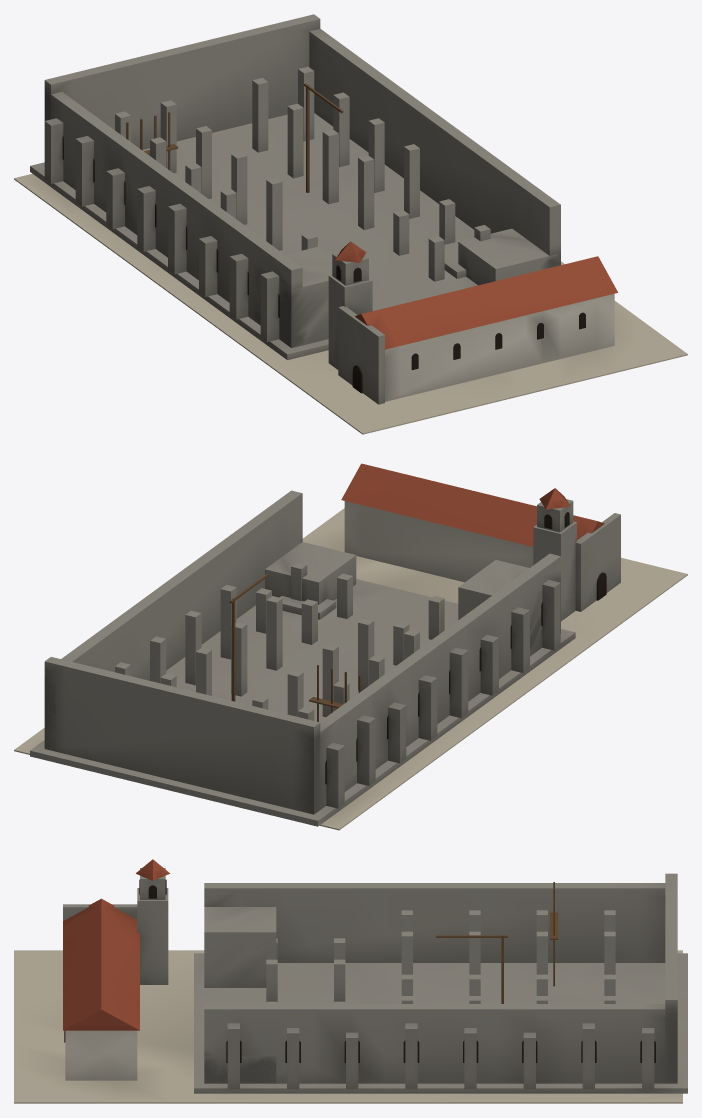
Rendered from cathedral-1620.glb.
3 views of the same model, one above another, from view 1: azimuth 30°, elevation 25°; view 2: azimuth 150°, elevation 25°; view 3: azimuth 270°, elevation 25° (orthographic). The views are drawn at different scales.
Visible parts, largest first — view 1: p2_new cathedral, p0_foundations, p1_old church; view 2: p2_new cathedral, p0_foundations, p1_old church; view 3: p2_new cathedral, p0_foundations, p1_old church.
Part boxes in pixels (<box>): p2_new cathedral: <box>44,14,560,347</box>; p0_foundations: <box>14,113,687,434</box>; p1_old church: <box>328,241,617,404</box>; p2_new cathedral: <box>44,490,560,814</box>; p0_foundations: <box>14,508,687,830</box>; p1_old church: <box>341,463,620,621</box>; p2_new cathedral: <box>204,873,677,1089</box>; p0_foundations: <box>14,950,687,1103</box>; p1_old church: <box>63,859,169,1080</box>.
Size of the model in its own units: 70 by 25.75 by 131.
